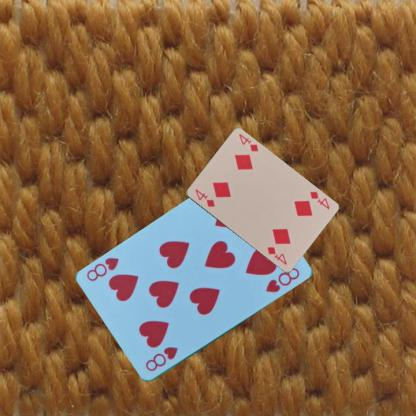4d: (192, 186, 216, 208), (307, 189, 330, 211)
8h: (143, 344, 179, 374)
